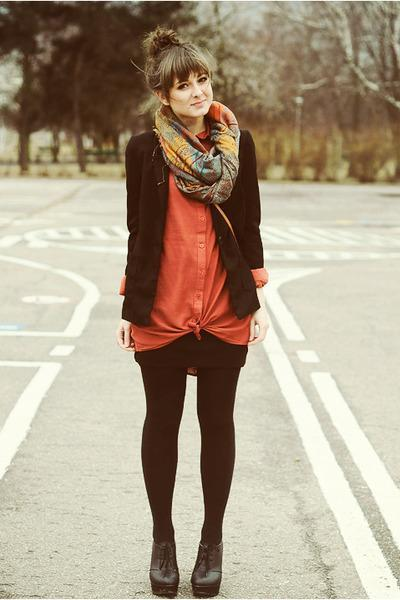jacket: (120, 132, 263, 323)
shirt: (126, 180, 267, 351)
shoe: (149, 535, 222, 598)
